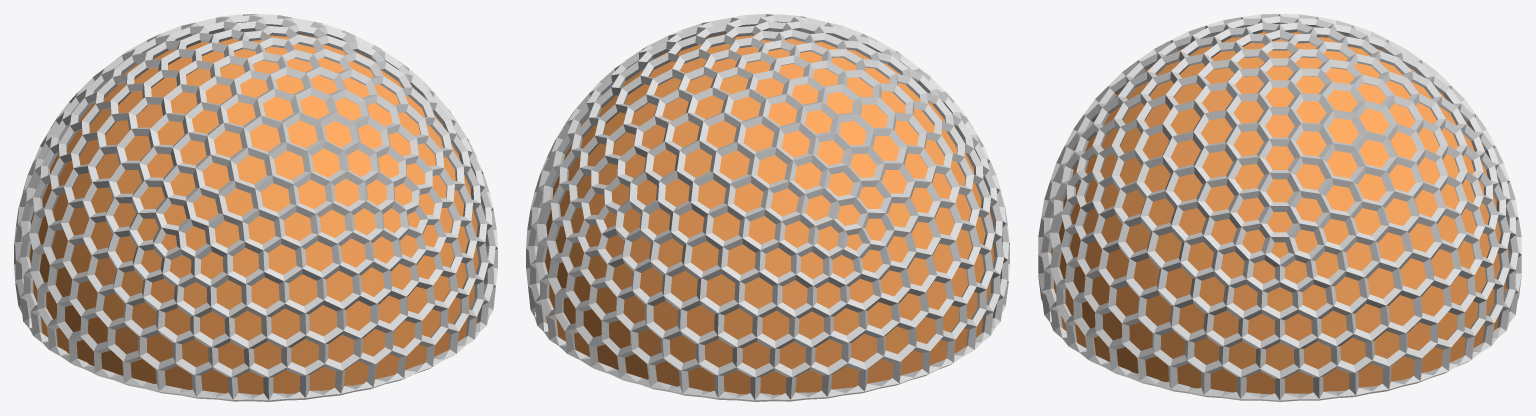
Rendered from base de départ.fbx.
3 renders of one model, left to right at view 1: azimuth 30°, elevation 25°; view 2: azimuth 150°, elevation 25°; view 3: azimuth 270°, elevation 25°, orthographic.
Visible parts, largest first — view 1: Icosphere.003; view 2: Icosphere.003; view 3: Icosphere.003.
Boxes of the visible parts, x1,y1,x2,y2 form: Icosphere.003: (14,14,497,401); Icosphere.003: (526,14,1009,401); Icosphere.003: (1038,14,1521,401).
Size of the model in its own units: 3590 by 2190 by 3590.
